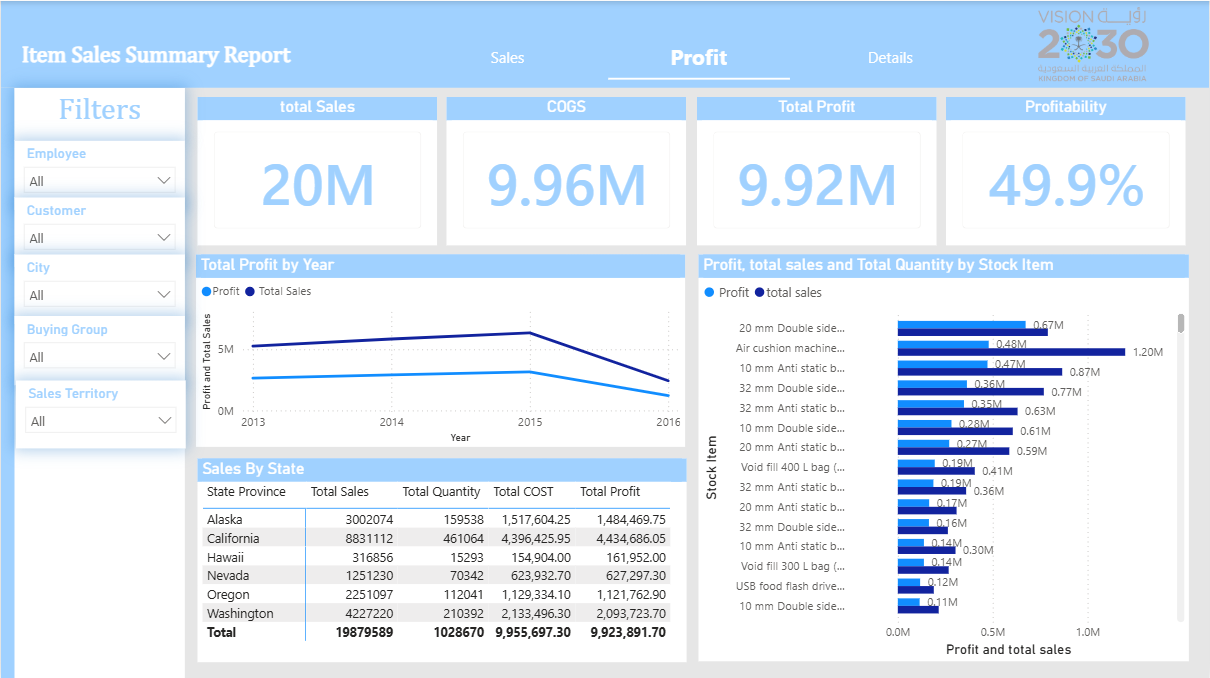

What the dashboard file says about the page in this screenshot:
{"tool":"powerbi","page":{"name":"Profit","canvas":[1280,720],"ordinal":1},"visuals":[{"type":"shape","box":[0,0,1281.1,92],"z":0},{"type":"shape","box":[0,92,15.1,628.9],"z":1000},{"type":"shape","box":[15.1,92,180.6,628.9],"z":2000},{"type":"textbox","box":[6.7,38.5,321.1,53.5],"z":3000},{"type":"image","box":[1036.9,6.7,242.5,78.6],"z":4000},{"type":"cardVisual","title":"total Sales","fields":{"Data":["Sum(FactSale.Total Excluding Tax)"]},"box":[207.9,102,254.2,157.2],"z":5000},{"type":"cardVisual","title":"COGS","fields":{"Data":["Sum(FactSale.COST)"]},"box":[472.8,102,254.2,157.2],"z":6000},{"type":"cardVisual","title":"Total Profit","fields":{"Data":["Sum(FactSale.Profit)"]},"box":[737.6,102,254.2,157.2],"z":7000},{"type":"cardVisual","title":"Profitability","fields":{"Data":["FactSale.Profitability"]},"box":[1002.4,102,254.2,157.2],"z":8000},{"type":"textbox","box":[15.1,92,180.6,55.2],"z":9000},{"type":"clusteredBarChart","fields":{"Category":["DimStockItem.Stock Item"],"Y":["Sum(FactSale.Profit)","FactSale.total sales"]},"box":[739.2,269.3,520.1,431.5],"z":10000},{"type":"pivotTable","title":"Sales By State","fields":{"Values":["Sum(FactSale.Total Excluding Tax)","Sum(FactSale.Quantity)","Sum(FactSale.COST)","Sum(FactSale.Profit)"],"Rows":["DimCity.State Province"]},"box":[209.1,485,518.5,215.8],"z":11000},{"type":"lineChart","title":"Total Profit by Year","fields":{"Category":["DimDate.Date.Variation.Date Hierarchy.Year","DimDate.Date.Variation.Date Hierarchy.Quarter","DimDate.Date.Variation.Date Hierarchy.Month","DimDate.Date.Variation.Date Hierarchy.Day"],"Y":["Sum(FactSale.Profit)","Sum(FactSale.Total Excluding Tax)"]},"box":[207.4,269.3,518.5,204],"z":12000},{"type":"slicer","fields":{"Values":["DimEmployee.Employee"]},"box":[15.1,147.2,180.6,73.6],"z":13000},{"type":"slicer","fields":{"Values":["DimCustomer.Customer"]},"box":[15.1,209.1,180.6,73.6],"z":14000},{"type":"slicer","fields":{"Values":["DimCity.City"]},"box":[15.1,269.3,180.6,73.6],"z":15000},{"type":"slicer","fields":{"Values":["DimCustomer.Buying Group"]},"box":[15.1,334.5,180.6,73.6],"z":16000},{"type":"slicer","fields":{"Values":["DimCity.Sales Territory"]},"box":[16,402,180,72],"z":17000},{"type":"pageNavigator","box":[440,34,600,50],"z":18000}]}

Visuals, with their boxes in screenshot pixels (x1, y1, x2, y2), scaled from the page's 1280x720 canvas onto the 1210x678 screenshot:
shape: select_region(0, 0, 1209, 87)
shape: select_region(0, 87, 14, 677)
shape: select_region(14, 87, 185, 677)
textbox: select_region(6, 36, 310, 87)
image: select_region(980, 6, 1209, 80)
"total Sales" cardVisual: select_region(197, 96, 437, 244)
"COGS" cardVisual: select_region(447, 96, 687, 244)
"Total Profit" cardVisual: select_region(697, 96, 938, 244)
"Profitability" cardVisual: select_region(948, 96, 1188, 244)
textbox: select_region(14, 87, 185, 139)
clusteredBarChart - DimStockItem.Stock Item x Sum(FactSale.Profit): select_region(699, 254, 1190, 660)
"Sales By State" pivotTable: select_region(198, 457, 688, 660)
"Total Profit by Year" lineChart: select_region(196, 254, 686, 446)
slicer - DimEmployee.Employee: select_region(14, 139, 185, 208)
slicer - DimCustomer.Customer: select_region(14, 197, 185, 266)
slicer - DimCity.City: select_region(14, 254, 185, 323)
slicer - DimCustomer.Buying Group: select_region(14, 315, 185, 384)
slicer - DimCity.Sales Territory: select_region(15, 379, 185, 446)
pageNavigator: select_region(416, 32, 983, 79)
